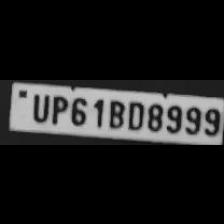1: (89, 95, 106, 127)
6: (68, 93, 88, 125)
8: (144, 98, 164, 132)
9: (202, 102, 220, 136), (164, 101, 182, 133), (182, 102, 200, 134)
B: (105, 95, 125, 129)
D: (123, 96, 143, 130)
P: (47, 92, 66, 124)
U: (27, 90, 49, 122)
